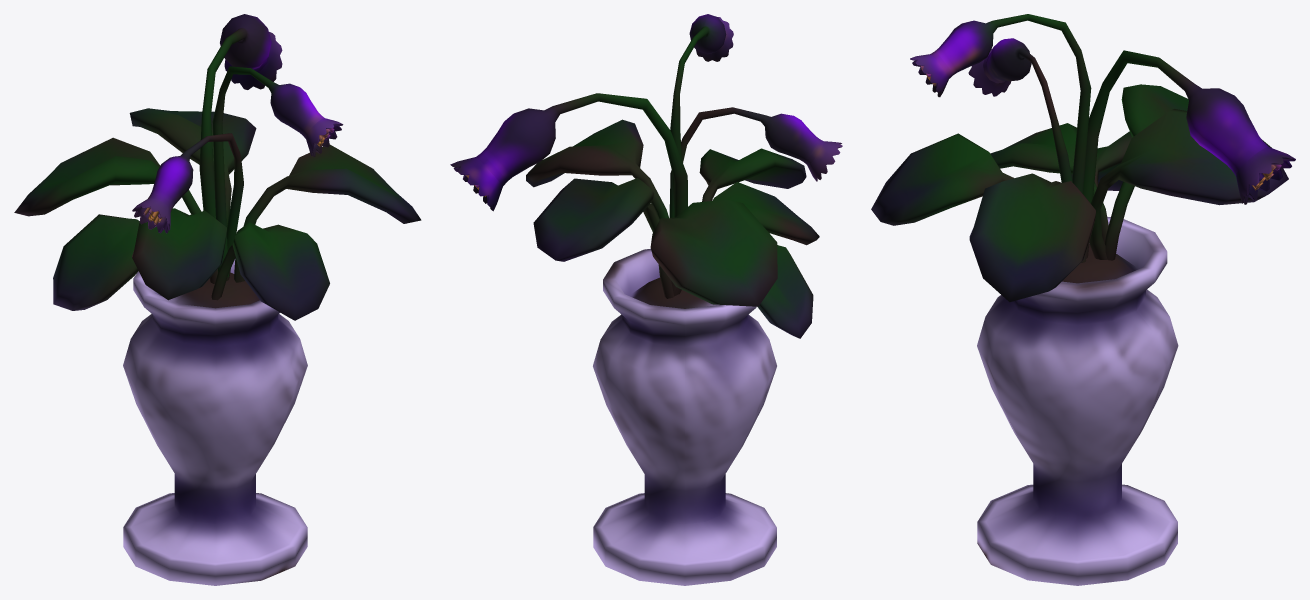
File: Potted_Plant.fbx
3 renders of one model, left to right at view 1: azimuth 30°, elevation 25°; view 2: azimuth 150°, elevation 25°; view 3: azimuth 270°, elevation 25°, orthographic. The views are drawn at different scales.
Visible parts, largest first — view 1: Plant, Pot; view 2: Plant, Pot; view 3: Plant, Pot.
Boxes of the visible parts, x1,y1,x2,y2 form: Plant: [14, 14, 421, 320]; Pot: [123, 259, 307, 585]; Plant: [450, 14, 842, 338]; Pot: [593, 248, 776, 585]; Plant: [871, 14, 1295, 302]; Pot: [977, 216, 1178, 585].
Bounding box in the file's own units: 1.54 × 2.3 × 1.65.
